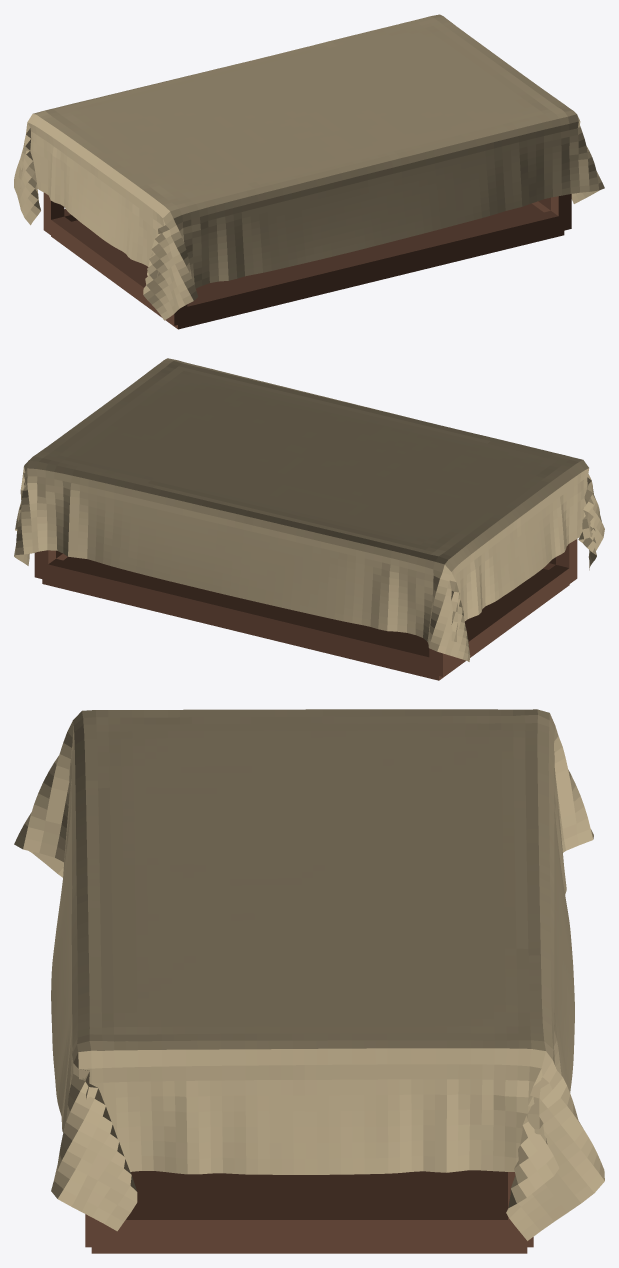
Rendered from Table 4.fbx.
The picture shows the model from 3 angles, top to bottom: view 1: azimuth 30°, elevation 25°; view 2: azimuth 150°, elevation 25°; view 3: azimuth 270°, elevation 25°; orthographic projection. The views are drawn at different scales.
Parts seen in each view (by area): view 1: Node 0; view 2: Node 0; view 3: Node 0.
Part boxes in pixels (x1,y1,x2,y2): Node 0: [14, 14, 604, 329]; Node 0: [14, 358, 604, 680]; Node 0: [14, 709, 604, 1253].
Bounding box in the file's own units: 3.11 × 0.8222 × 2.07.
